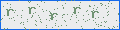r: (73, 6, 82, 14), (50, 12, 58, 20), (91, 11, 99, 19), (6, 9, 14, 16), (28, 7, 36, 14)
